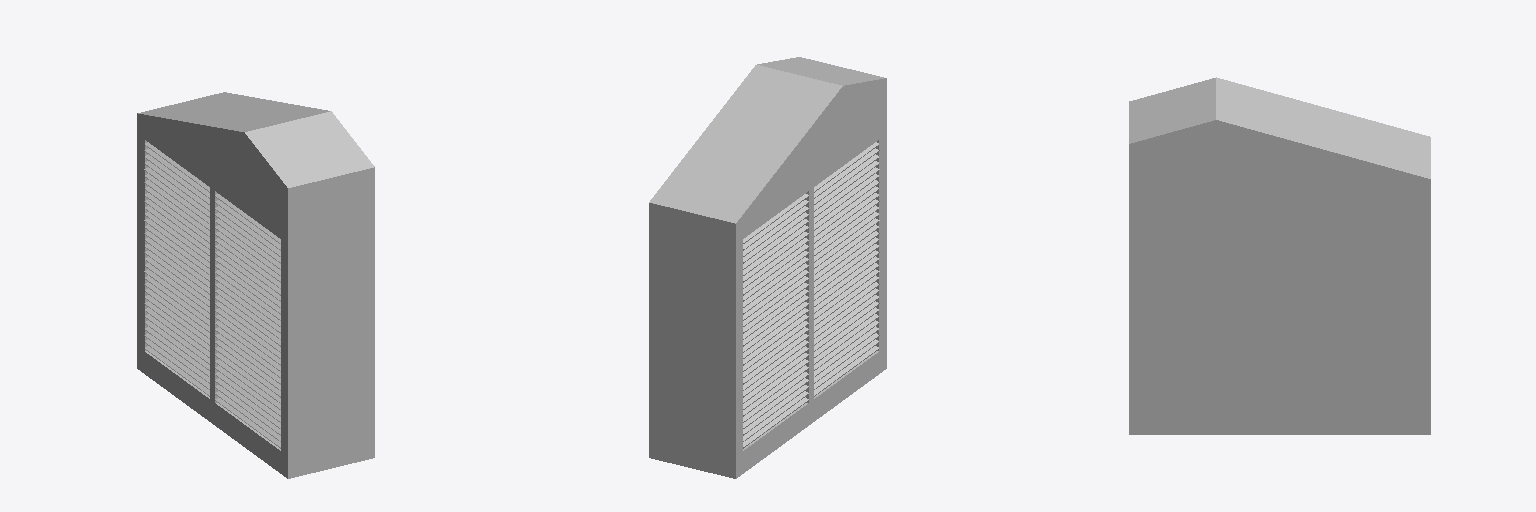
File: 3D_8.8_SIM.obj
The picture shows the model from 3 angles: view 1: azimuth 30°, elevation 25°; view 2: azimuth 150°, elevation 25°; view 3: azimuth 270°, elevation 25°; orthographic projection.
Parts seen in each view (by area): view 1: 3D_8.8_SIM; view 2: 3D_8.8_SIM; view 3: 3D_8.8_SIM.
Part boxes in pixels (bbox=[...]): 3D_8.8_SIM: bbox=[137, 92, 374, 478]; 3D_8.8_SIM: bbox=[649, 57, 886, 478]; 3D_8.8_SIM: bbox=[1129, 77, 1430, 434].
Bounding box in the file's own units: 1 × 3.46 × 3.